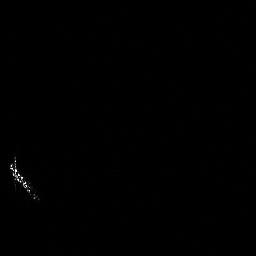ship: (6, 158, 44, 203)
